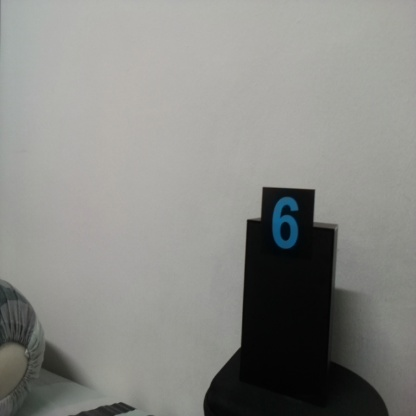id_6: (262, 188, 312, 265)
